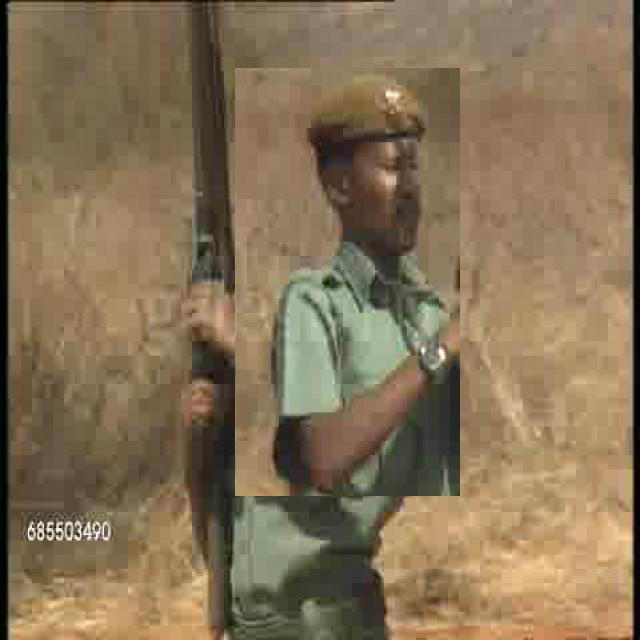poacher: (235, 68, 460, 496)
weapon: (182, 5, 235, 626)
